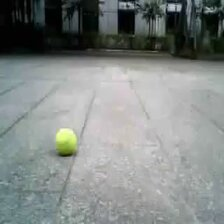tennis: (56, 128, 78, 152)
